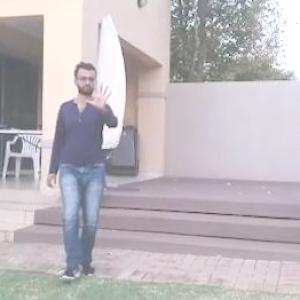follow_hand: (81, 78, 116, 112)
